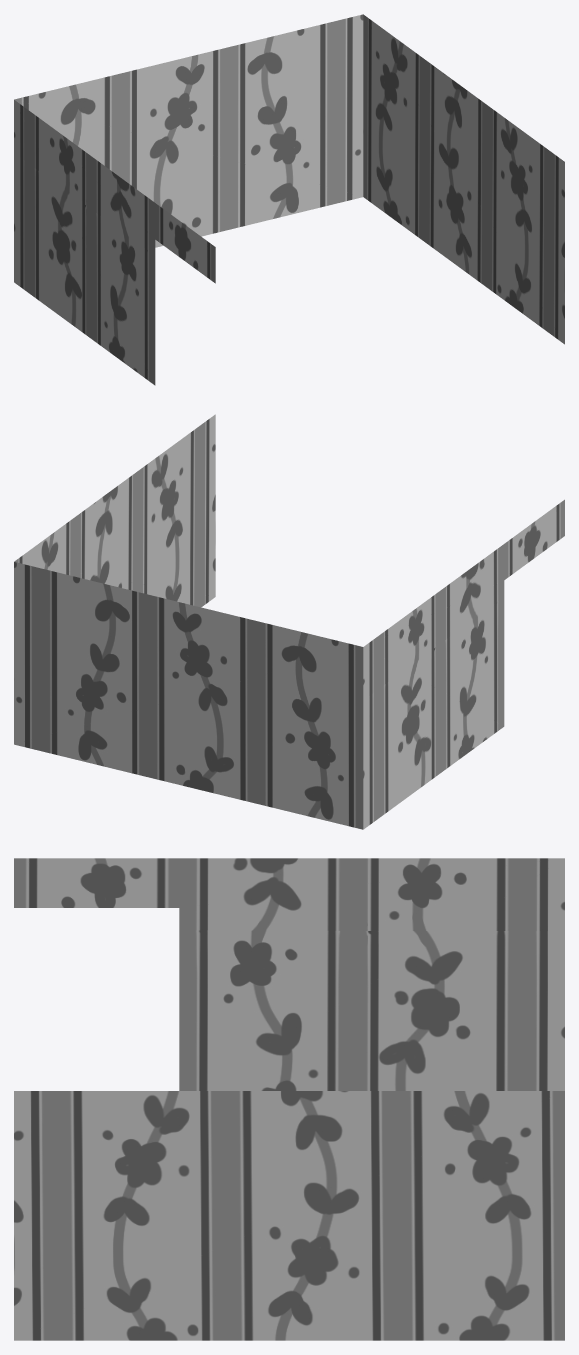
The model's file is Bedroom.fbx.
3 views of the same model, one above another, from view 1: azimuth 30°, elevation 25°; view 2: azimuth 150°, elevation 25°; view 3: azimuth 270°, elevation 25° (orthographic). The views are drawn at different scales.
Visible parts, largest first — view 1: Bedroom; view 2: Bedroom; view 3: Bedroom.
Boxes of the visible parts, x1,y1,x2,y2 form: Bedroom: (14,14,564,385); Bedroom: (14,414,564,829); Bedroom: (14,858,564,1340).
Bounding box in the file's own units: 10 × 5 × 10.
1 material, 1 textured.
